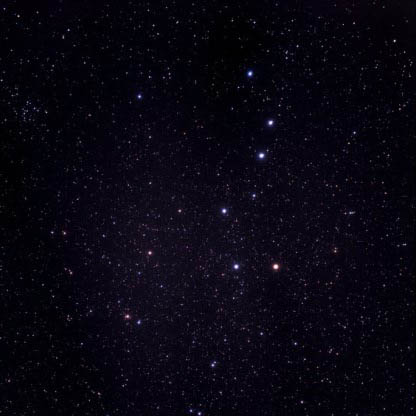Ursa Major: (263, 114, 285, 141), (225, 255, 245, 279), (266, 256, 288, 275), (237, 63, 260, 81), (254, 147, 273, 165), (215, 201, 231, 220), (247, 188, 261, 204)
